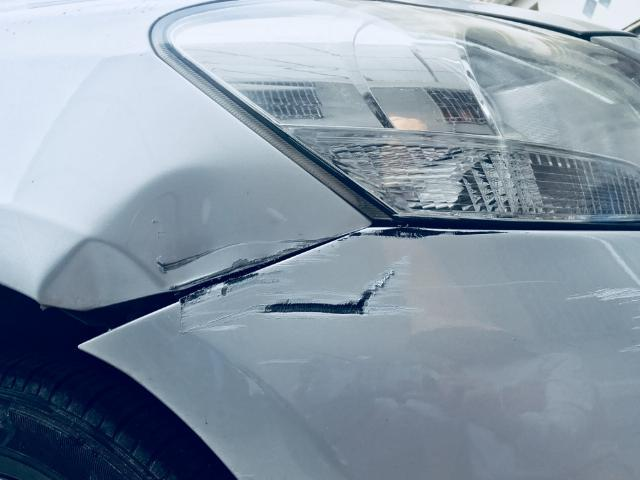Bumper: (75, 223, 640, 477)
Fender: (0, 39, 376, 316)
Light: (160, 0, 640, 220)
